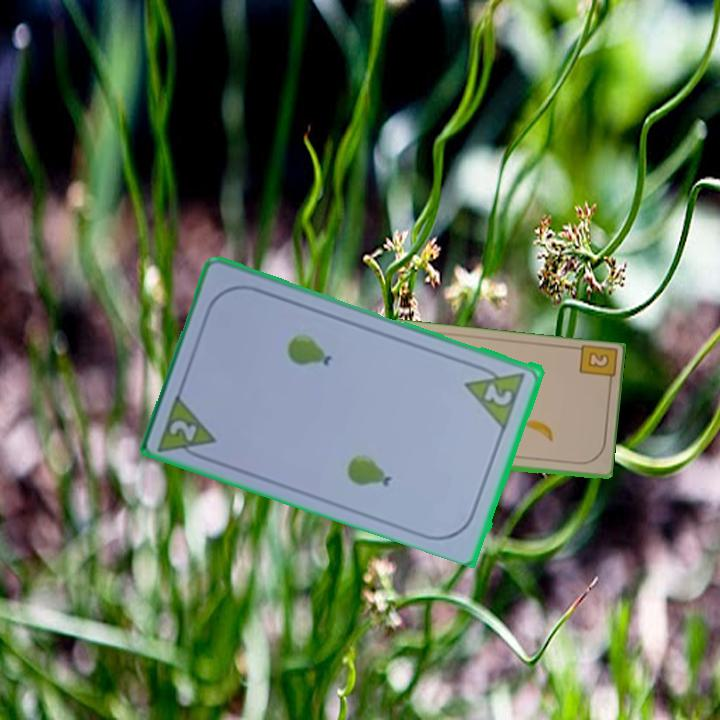2b: (575, 343, 617, 391)
2p: (155, 388, 221, 465), (462, 359, 529, 430)
